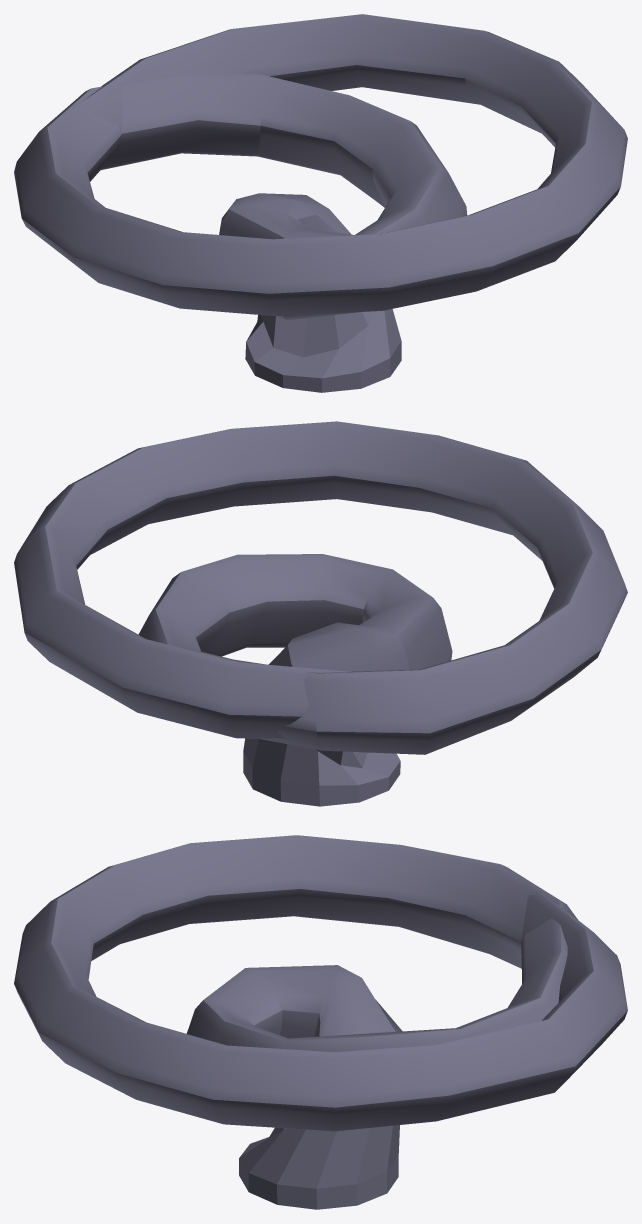
Rendered from wheelSpiralTop.fbx.
3 views of the same model, one above another, from view 1: azimuth 30°, elevation 25°; view 2: azimuth 150°, elevation 25°; view 3: azimuth 270°, elevation 25° (orthographic). The views are drawn at different scales.
Visible parts, largest first — view 1: wheelSpiralTop; view 2: wheelSpiralTop; view 3: wheelSpiralTop.
Boxes of the visible parts, x1,y1,x2,y2 form: wheelSpiralTop: (14, 14, 627, 392); wheelSpiralTop: (14, 421, 627, 806); wheelSpiralTop: (14, 835, 627, 1209).
Size of the model in its own units: 332 by 141 by 324.
